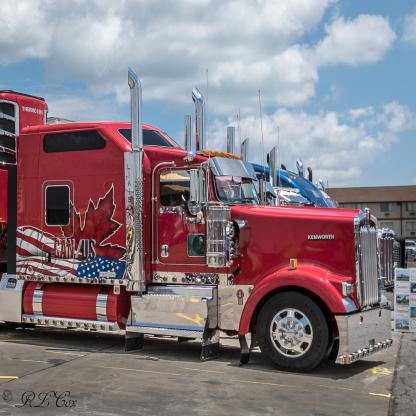Truck: (0, 67, 405, 374)
